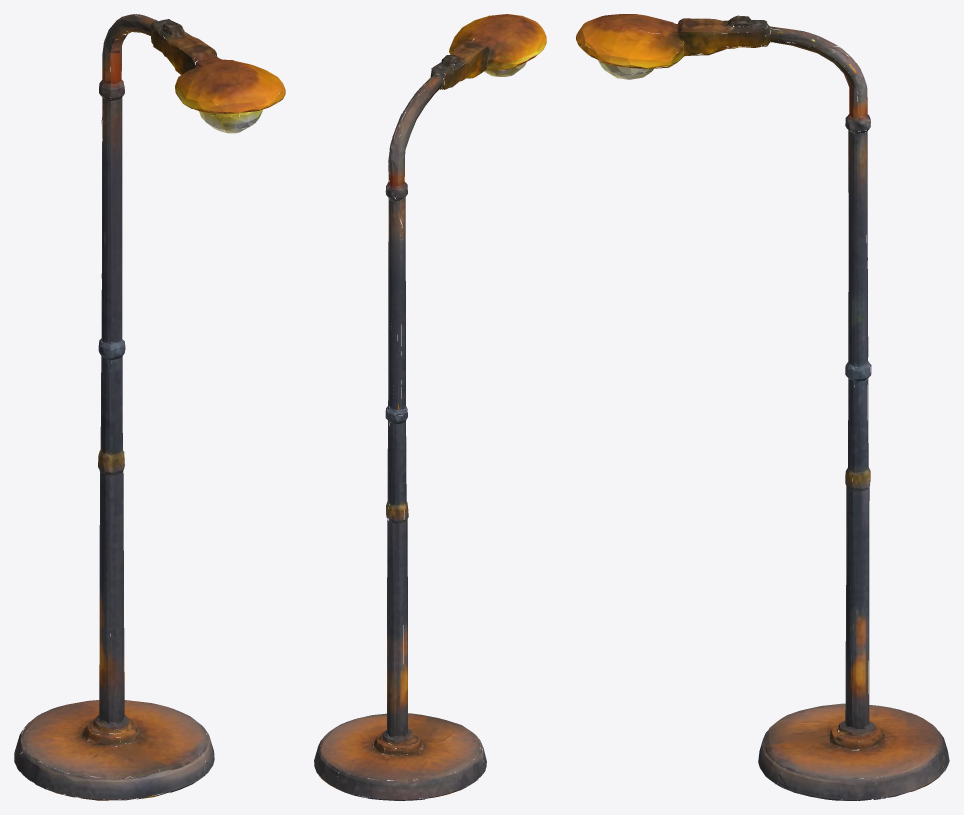
File: street-lamp.glb
3 renders of one model, left to right at view 1: azimuth 30°, elevation 25°; view 2: azimuth 150°, elevation 25°; view 3: azimuth 270°, elevation 25°, orthographic. The views are drawn at different scales.
Parts seen in each view (by area): view 1: prop; view 2: prop; view 3: prop.
Boxes of the visible parts, x1,y1,x2,y2 form: prop: [14, 14, 285, 800]; prop: [314, 14, 546, 800]; prop: [576, 14, 949, 800].
Size of the model in its own units: 0.5616 by 2.4 by 1.09.
1 material, 1 textured.
